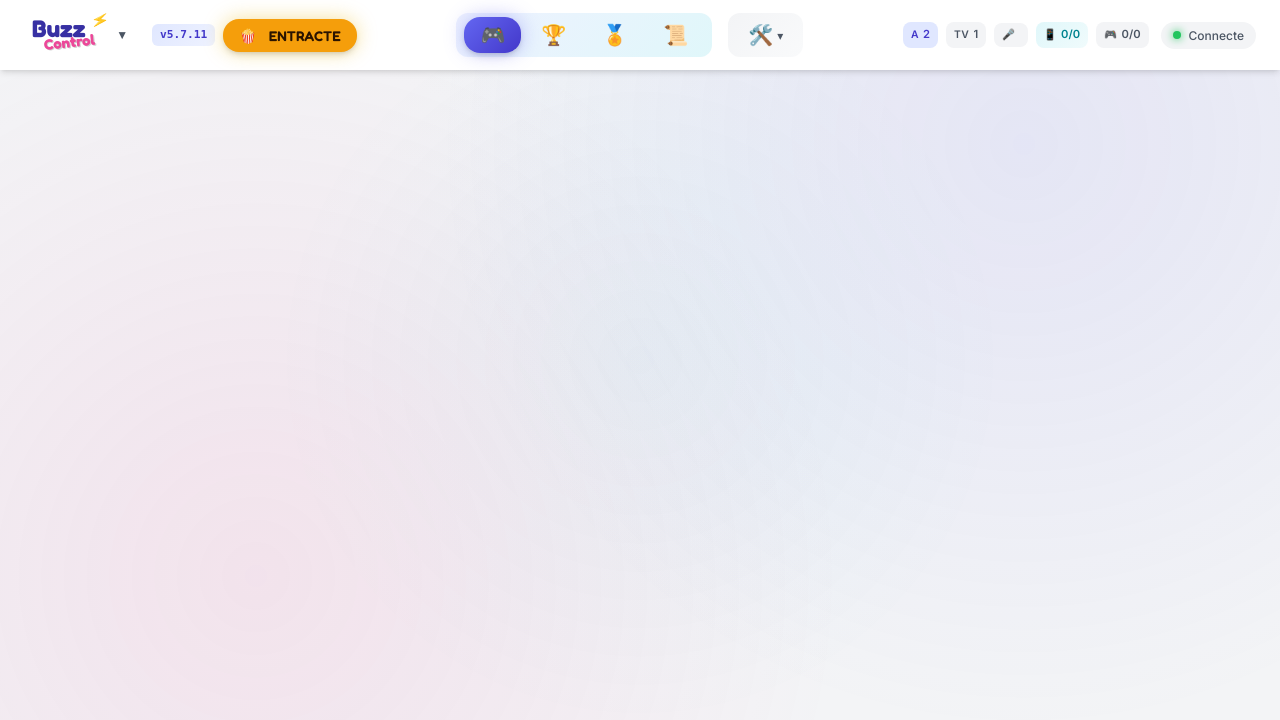
Test: #175 — confirmation refusée (T2, AC4) › window.confirm() renvoyant false : aucun fetch, le menu se referme
Click the button with aria-label "Menu de navigation" at (80, 35), box [24,12,136,58]
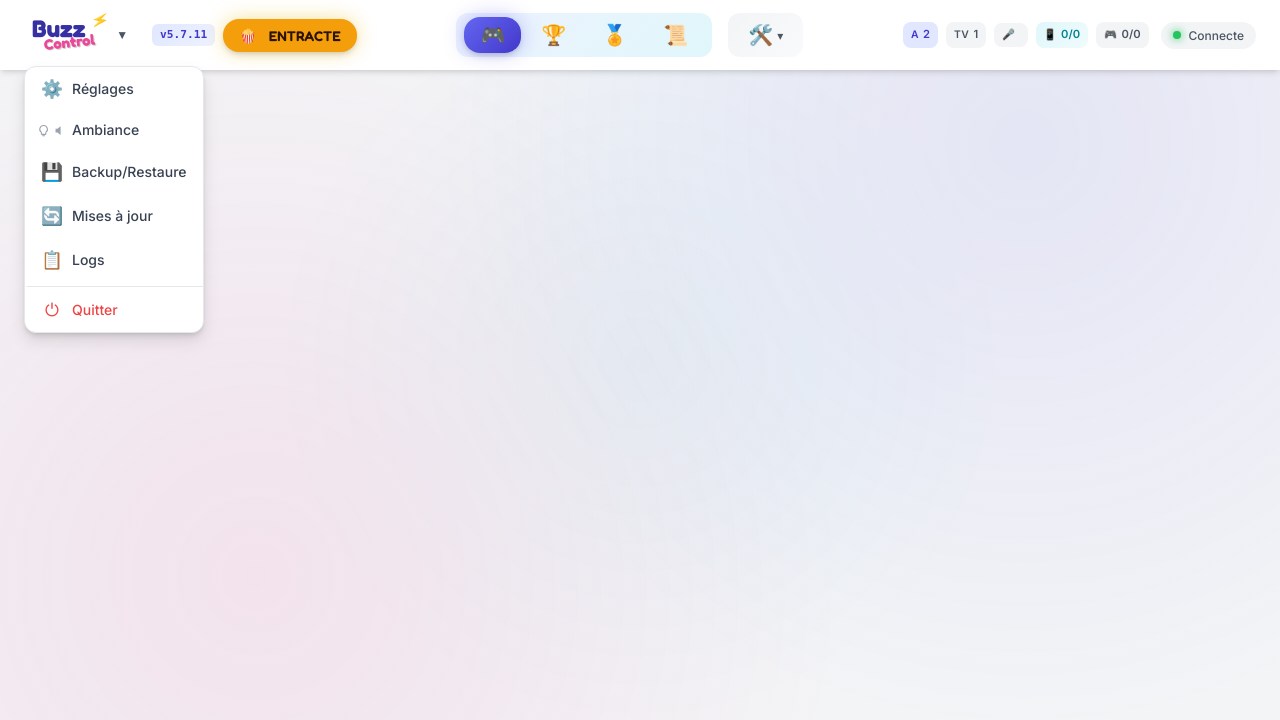
Click the button "⏻ Quitter" at (114, 309), box [25,286,203,332]
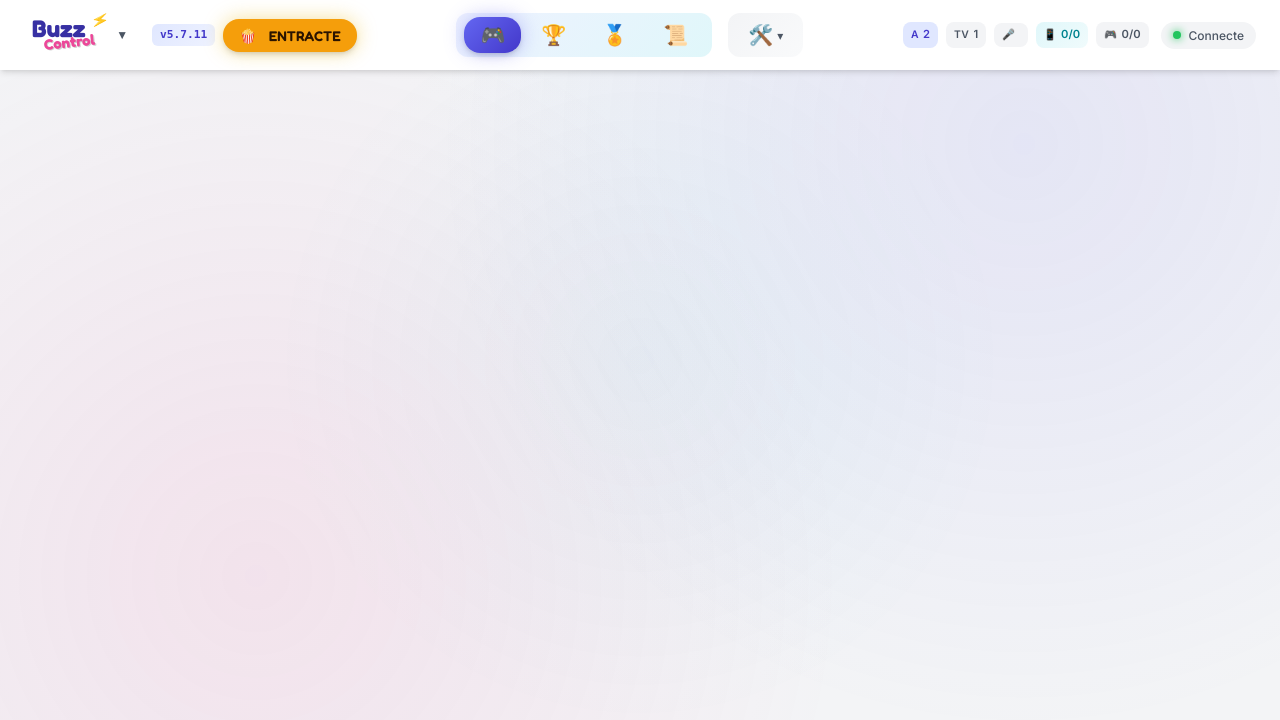
Result: the element with class "navbar-menu-dropdown" is gone
